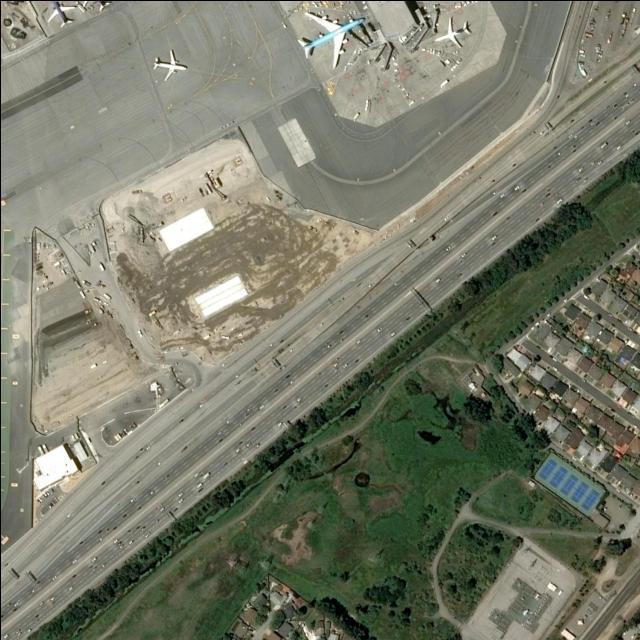Aircraft: (300, 8, 366, 64), (436, 15, 470, 47), (153, 48, 185, 76), (46, 0, 77, 24), (85, 0, 110, 11)
